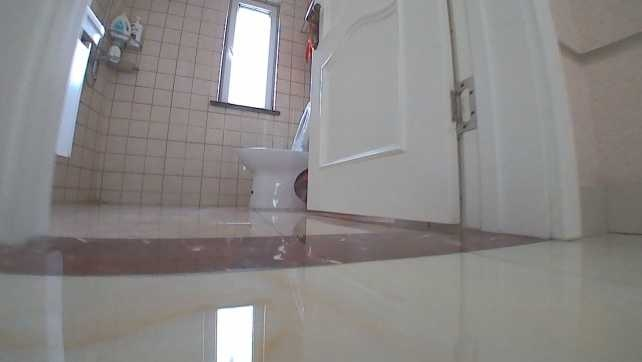door_anno: (302, 0, 585, 240)
door_sill: (1, 225, 536, 278)
toilet: (235, 100, 316, 208)
